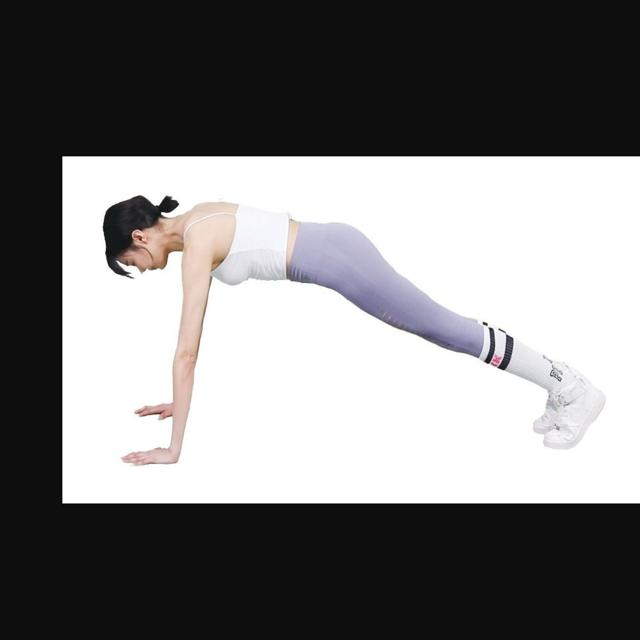Plank_Pose: (98, 191, 612, 481)
